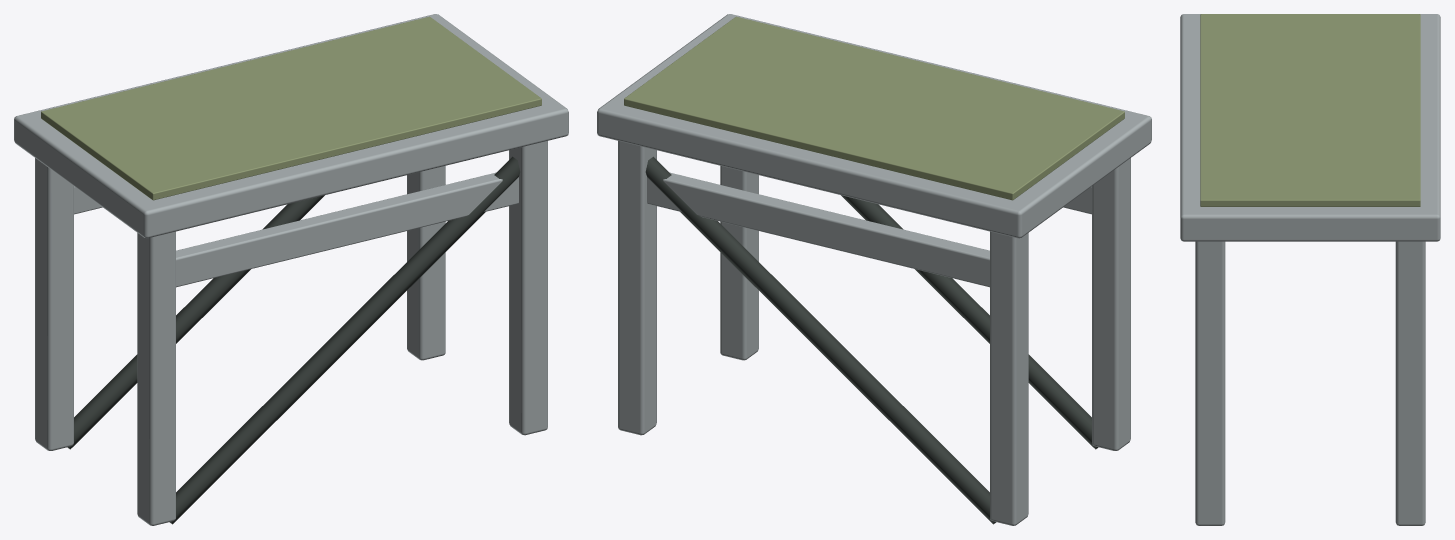
The model's file is salvage-and-repair-workshop-folding-repair-table-2afeeccf__25441.glb.
3 renders of one model, left to right at view 1: azimuth 30°, elevation 25°; view 2: azimuth 150°, elevation 25°; view 3: azimuth 270°, elevation 25°, orthographic.
Parts seen in each view (by area): view 1: folding-repair-table; view 2: folding-repair-table; view 3: folding-repair-table.
Part boxes in pixels (x1=…): folding-repair-table: x1=14, y1=14, x2=568, y2=525; folding-repair-table: x1=597, y1=14, x2=1151, y2=525; folding-repair-table: x1=1180, y1=14, x2=1440, y2=525.
Bounding box in the file's own units: 1.2 × 0.9126 × 0.65.
